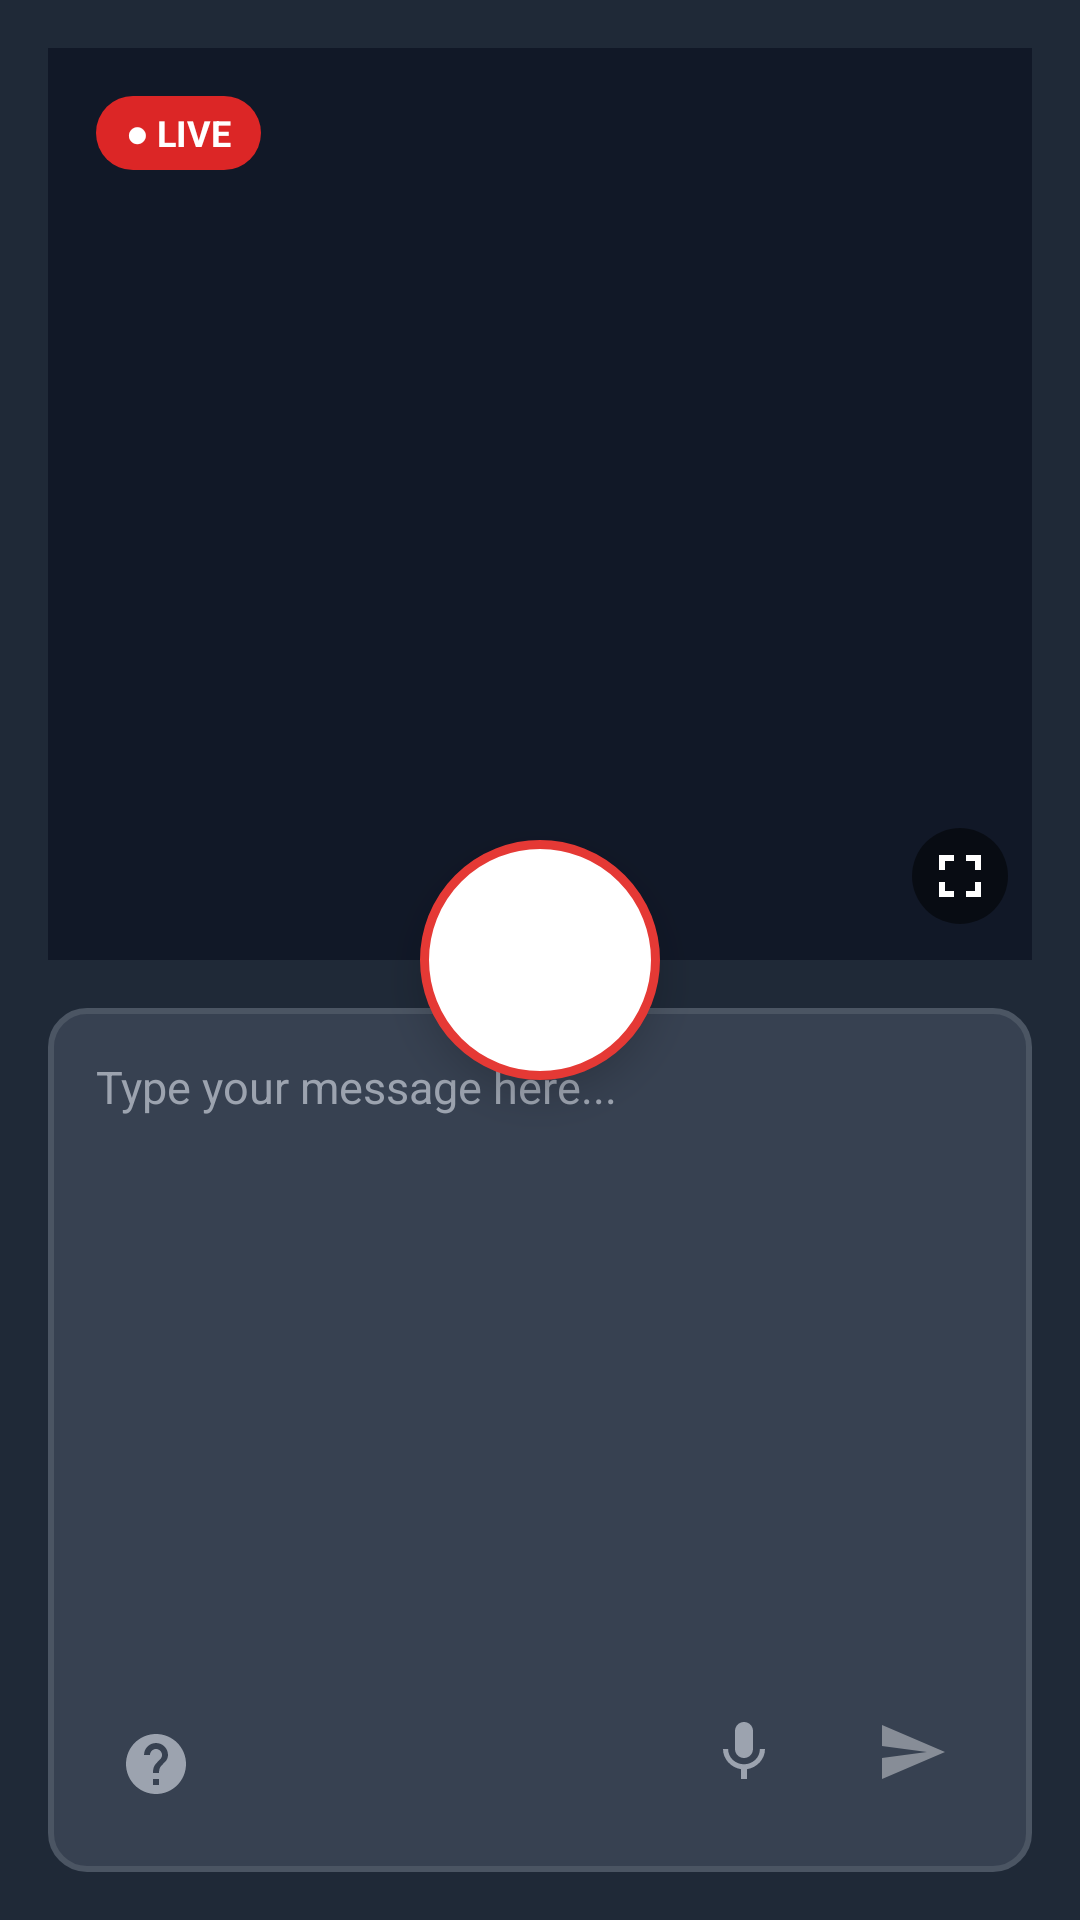

Where to tap for icons on this 1080*1920 app screen, as (x=x, y=y):
Help: (x=156, y=1764)
Send message: (x=913, y=1752)
Toggle fullscreen: (x=960, y=876)
Voice recording: (x=744, y=1750)
